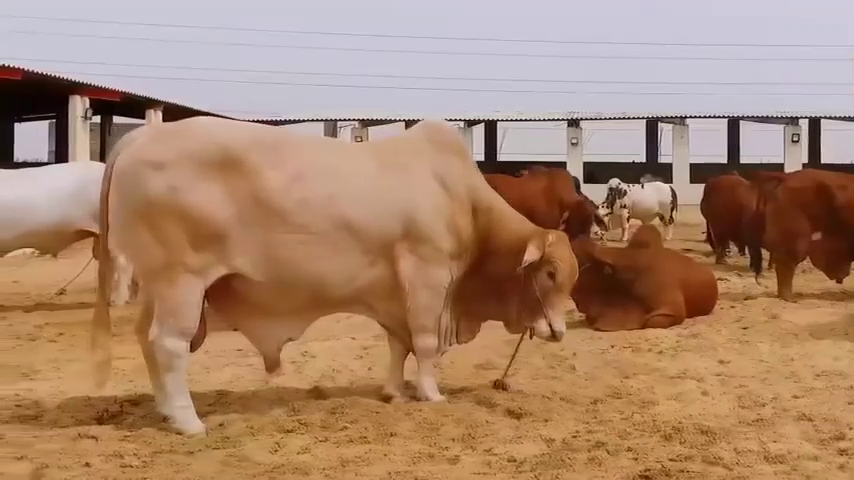bo: (79, 118, 577, 429), (1, 158, 133, 316), (564, 227, 718, 334), (744, 164, 848, 308), (481, 161, 600, 245), (694, 166, 761, 265), (593, 166, 678, 241)
